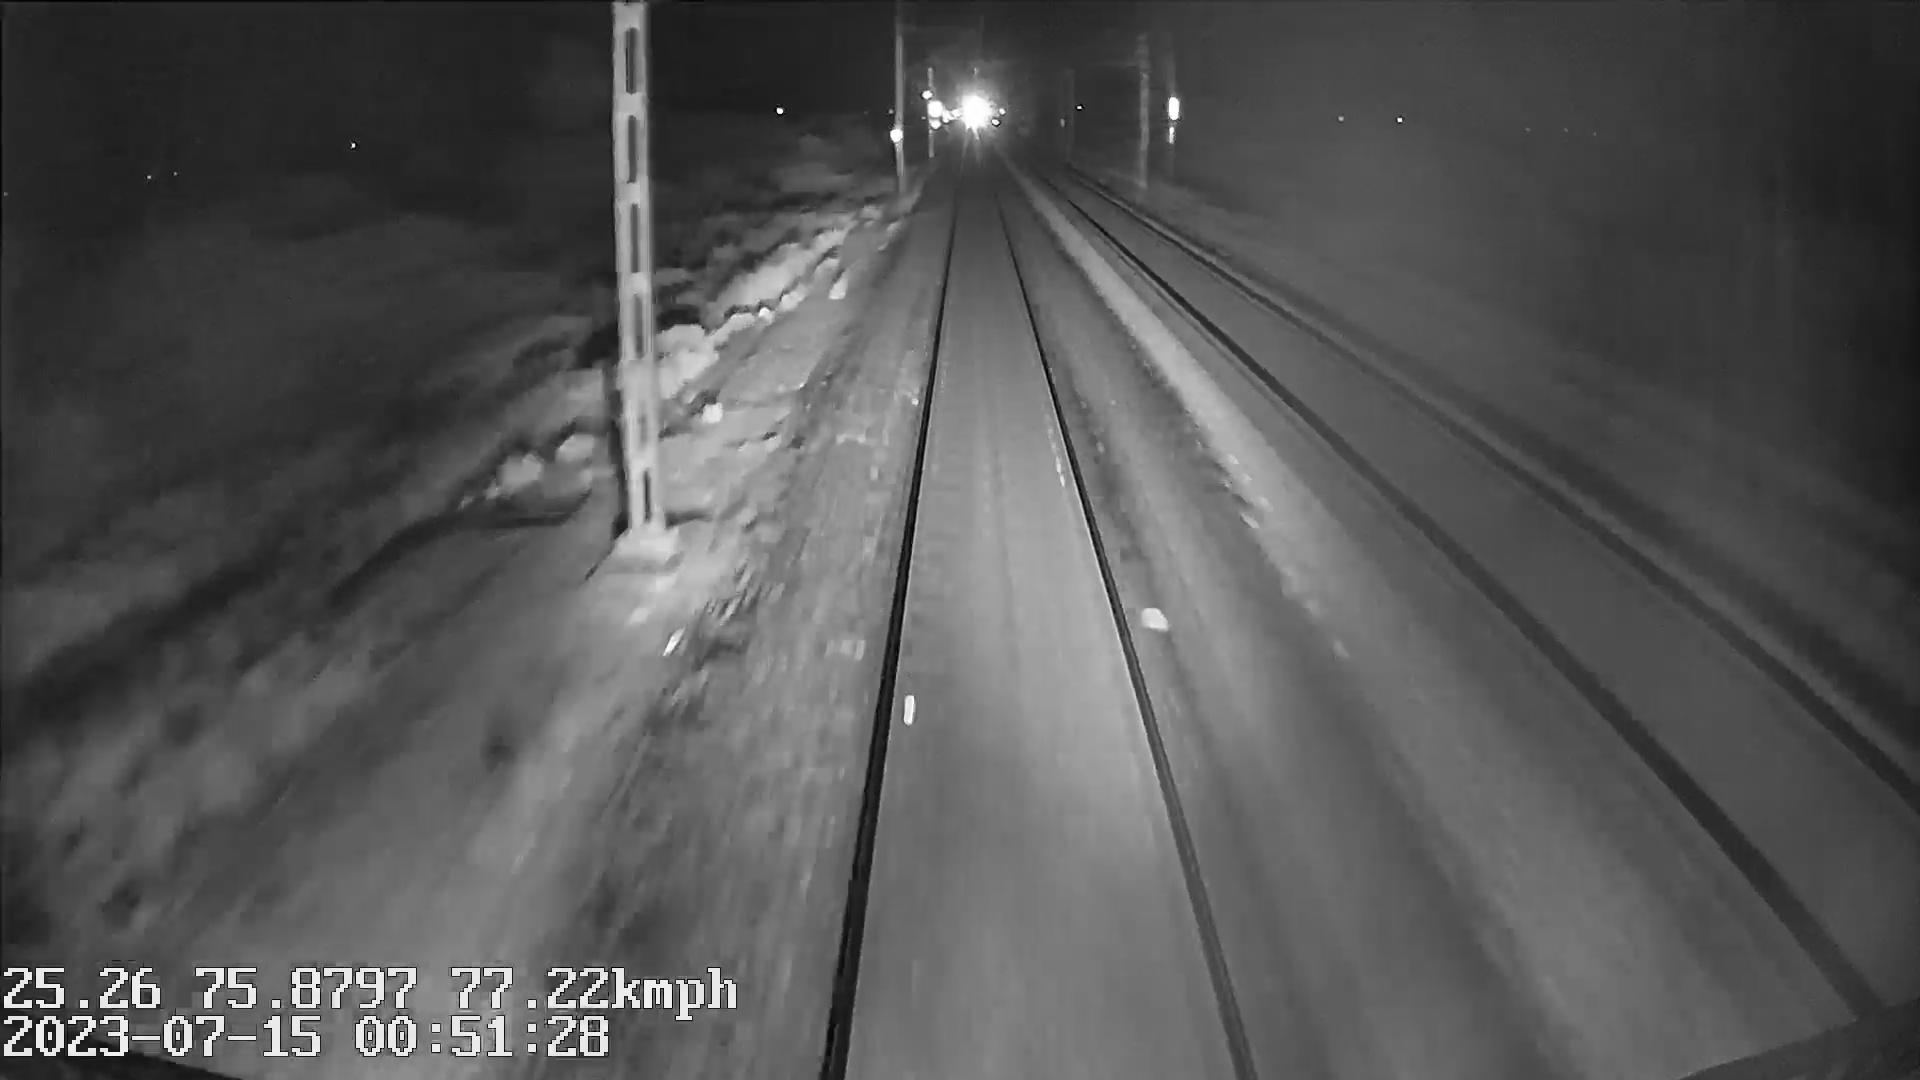track1: (836, 181, 1245, 1060)
track2: (1072, 194, 1907, 911)
